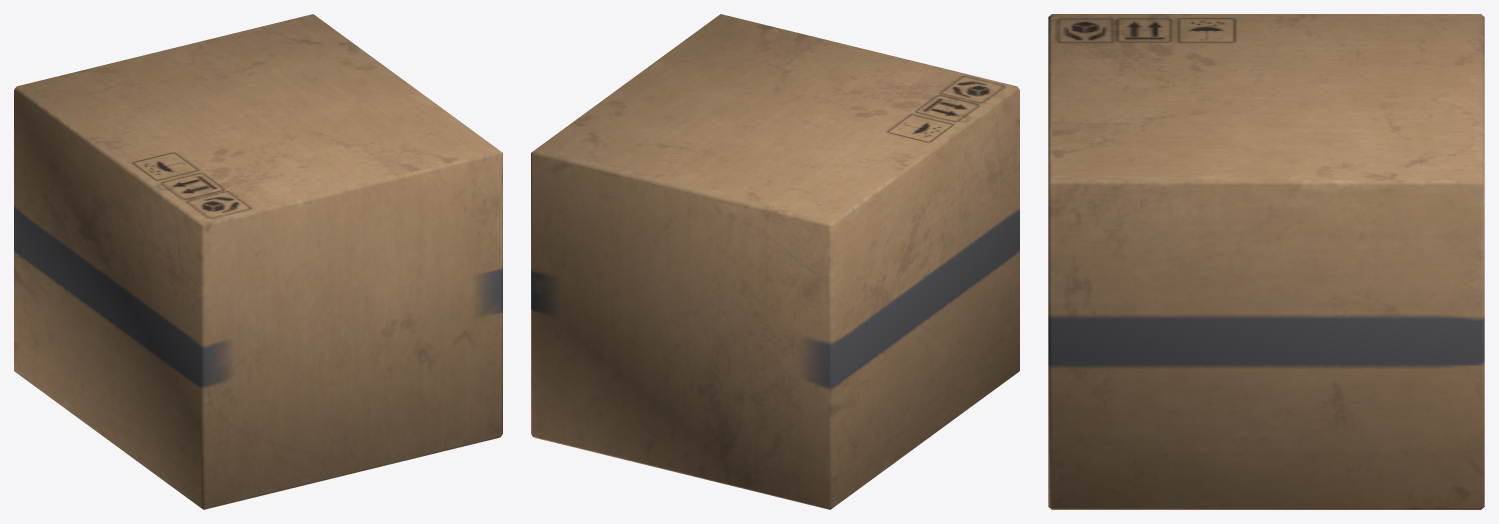
The model's file is smallBox.fbx.
The picture shows the model from 3 angles, left to right: view 1: azimuth 30°, elevation 25°; view 2: azimuth 150°, elevation 25°; view 3: azimuth 270°, elevation 25°; orthographic projection. The views are drawn at different scales.
Visible parts, largest first — view 1: small_box; view 2: small_box; view 3: small_box.
Boxes of the visible parts, bbox=[...] form: small_box: bbox=[14, 14, 502, 509]; small_box: bbox=[531, 14, 1019, 509]; small_box: bbox=[1048, 14, 1484, 509].
Size of the model in its own units: 2378 by 2183 by 1982.
